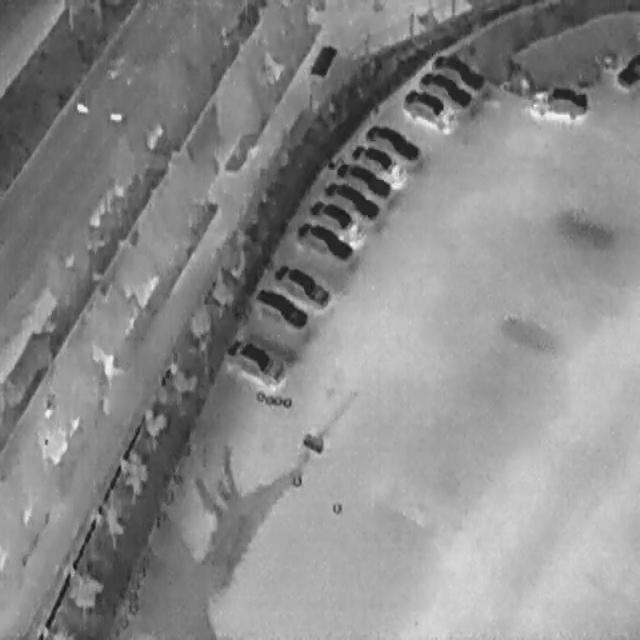Car: (290, 208, 360, 272), (221, 326, 289, 390), (396, 78, 460, 142), (269, 252, 335, 314), (247, 276, 312, 335), (318, 168, 382, 226), (347, 132, 411, 188), (362, 112, 425, 168), (428, 42, 490, 98), (303, 188, 364, 244), (415, 58, 476, 112), (333, 151, 392, 204), (528, 84, 590, 120), (616, 51, 638, 90)
